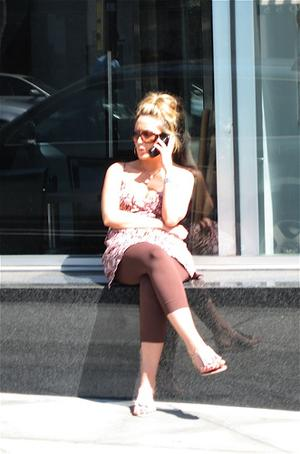person: (102, 92, 229, 419)
